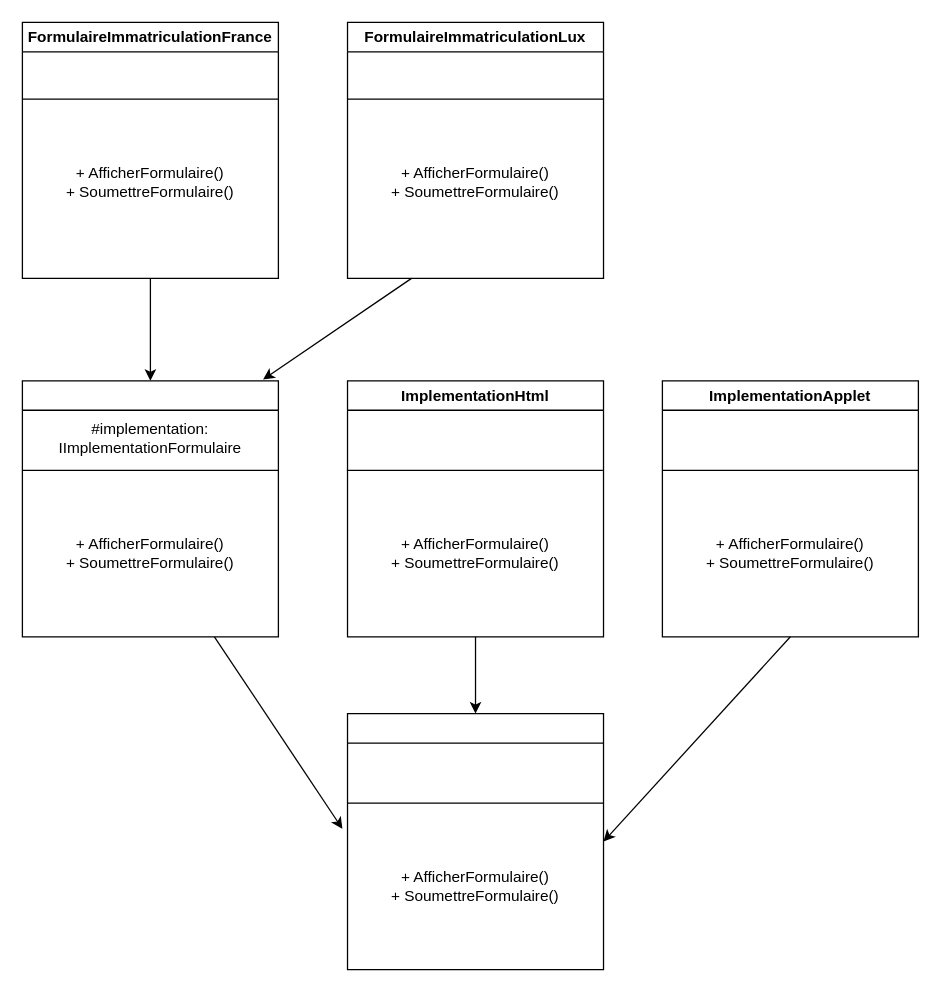
This 942x992 diagram has some shape labels left out. The shapes that lost their labels are listed below. From the top down, each one's box as (x1, y1, x2, y2) in pixels, then its label:
(21, 380, 278, 637): FormulaireImmatriculation
(346, 712, 604, 970): IImplementationFormulaire
